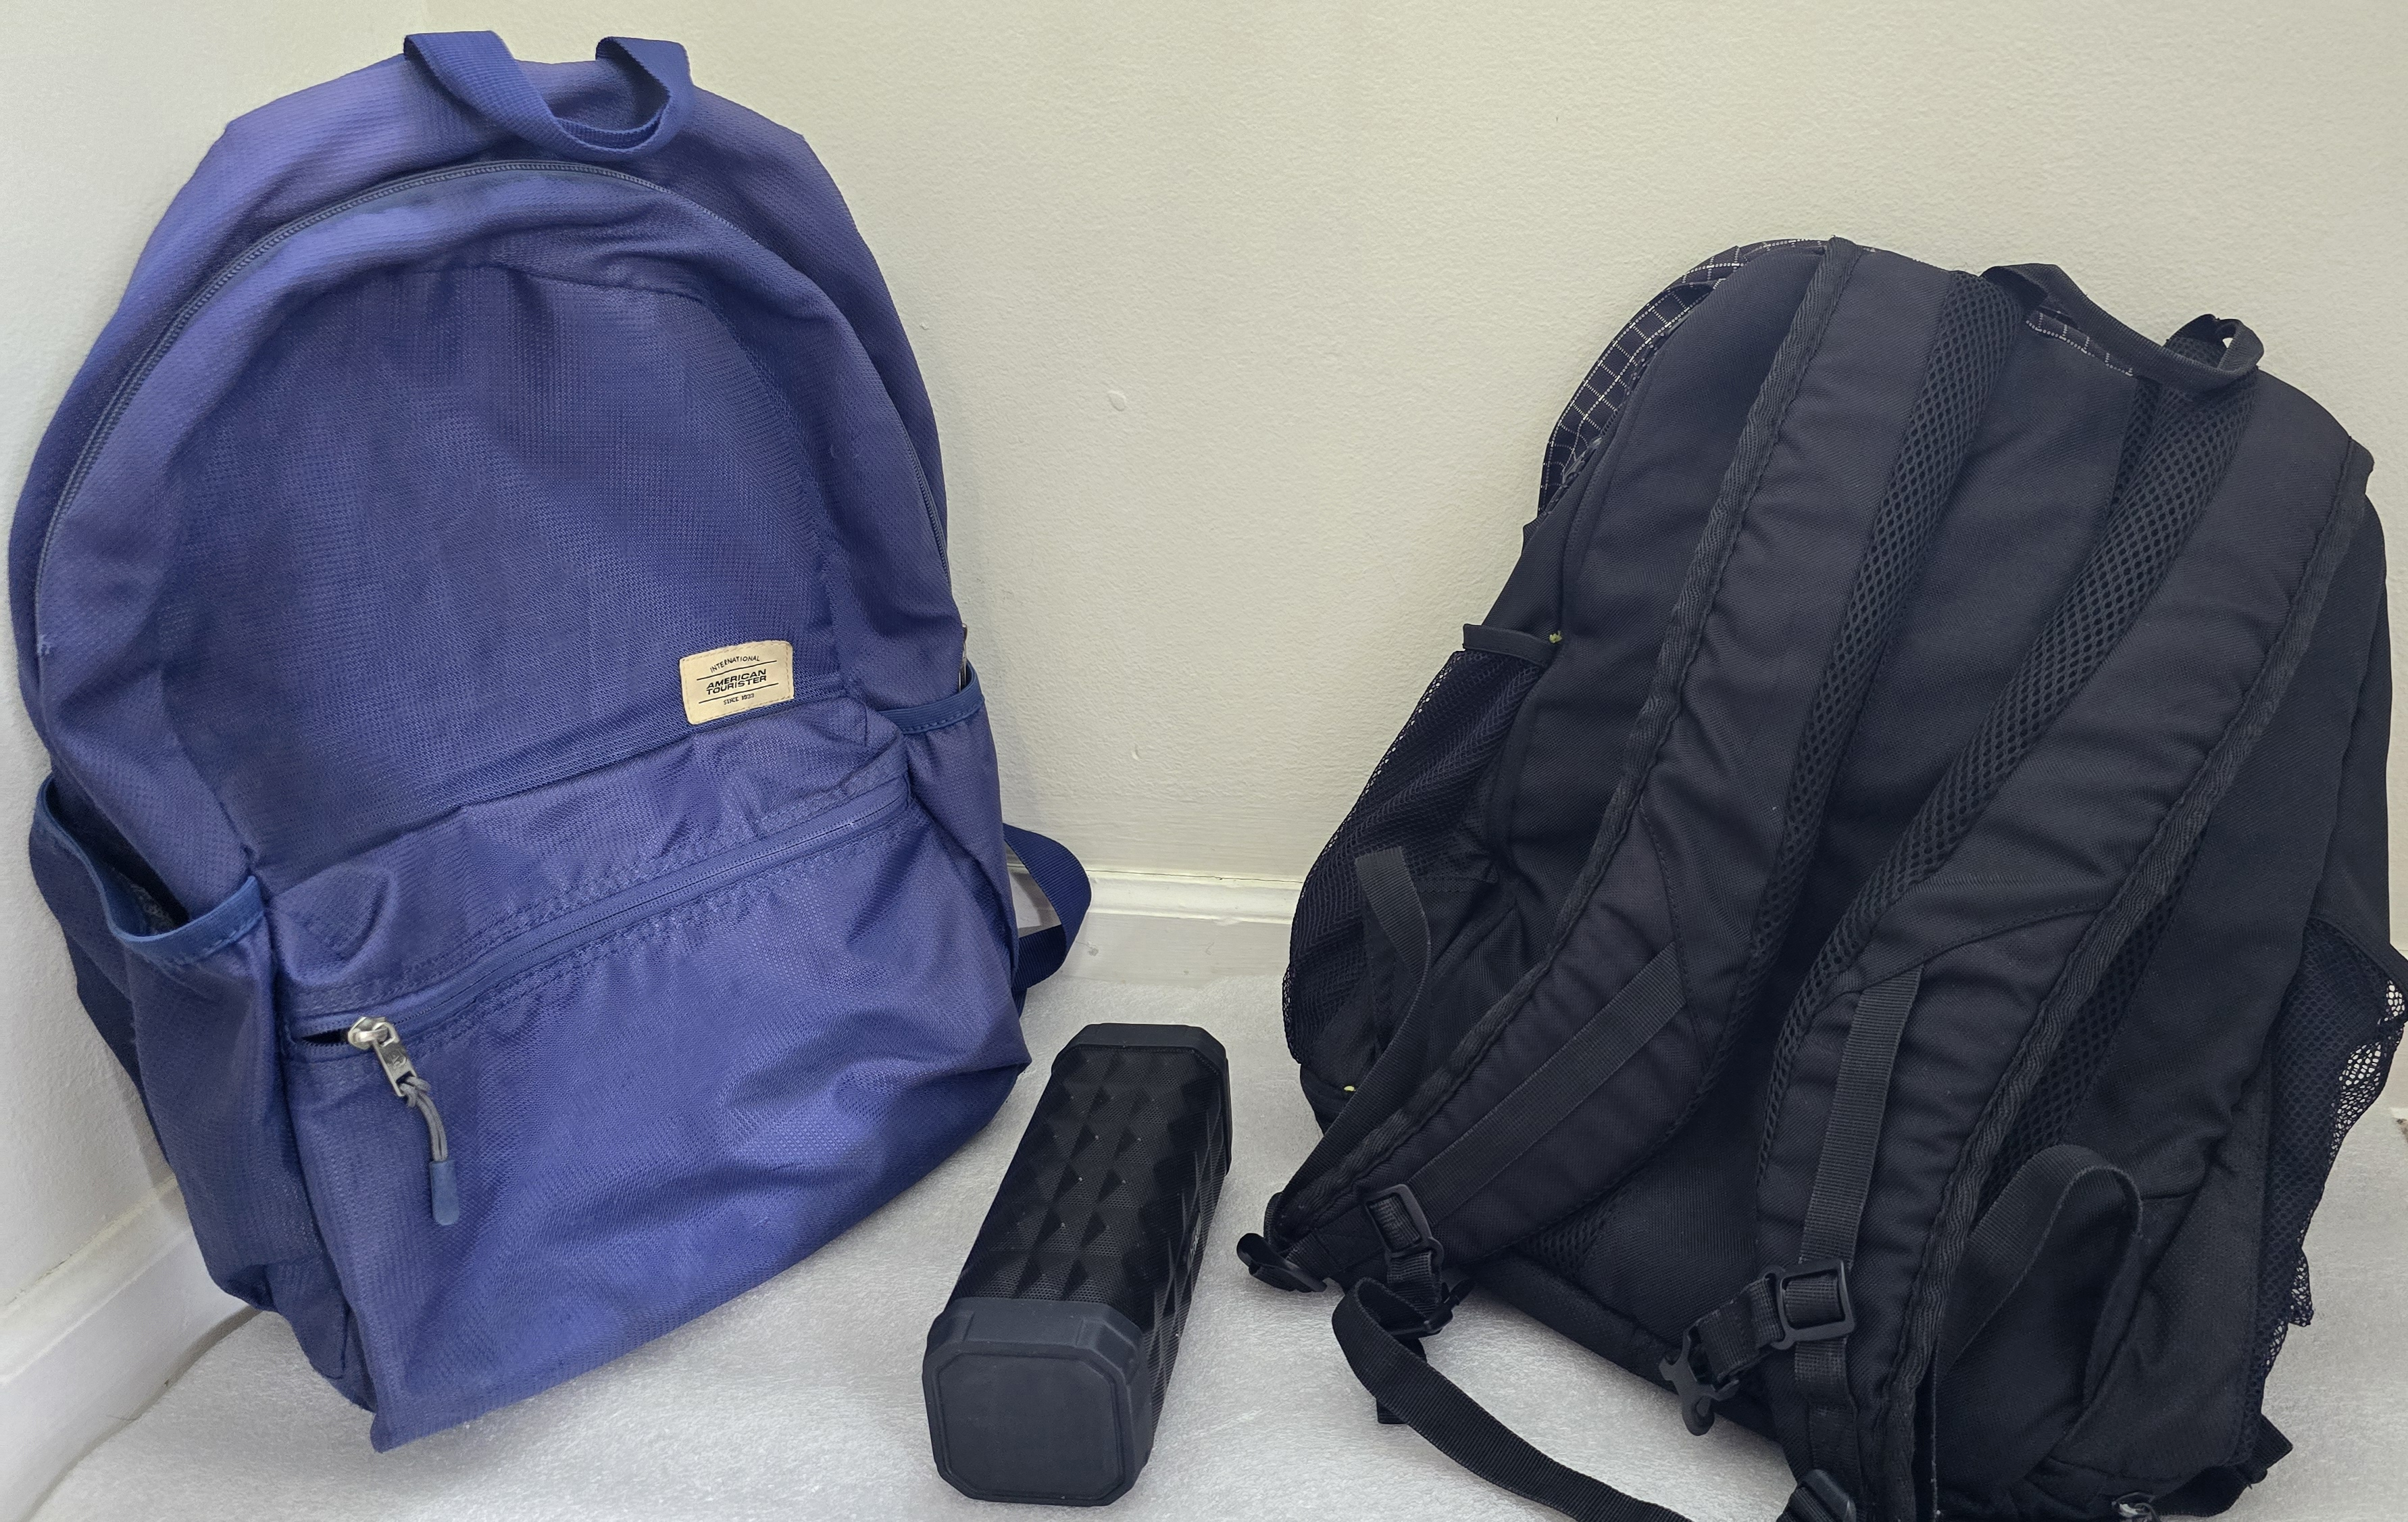bag: (1246, 172, 2408, 1522), (25, 40, 1155, 1413)
